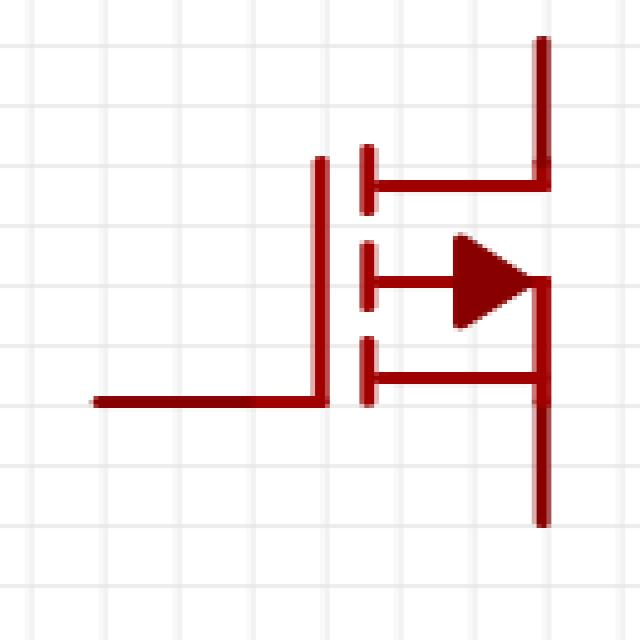pmos: (125, 54, 587, 494)
